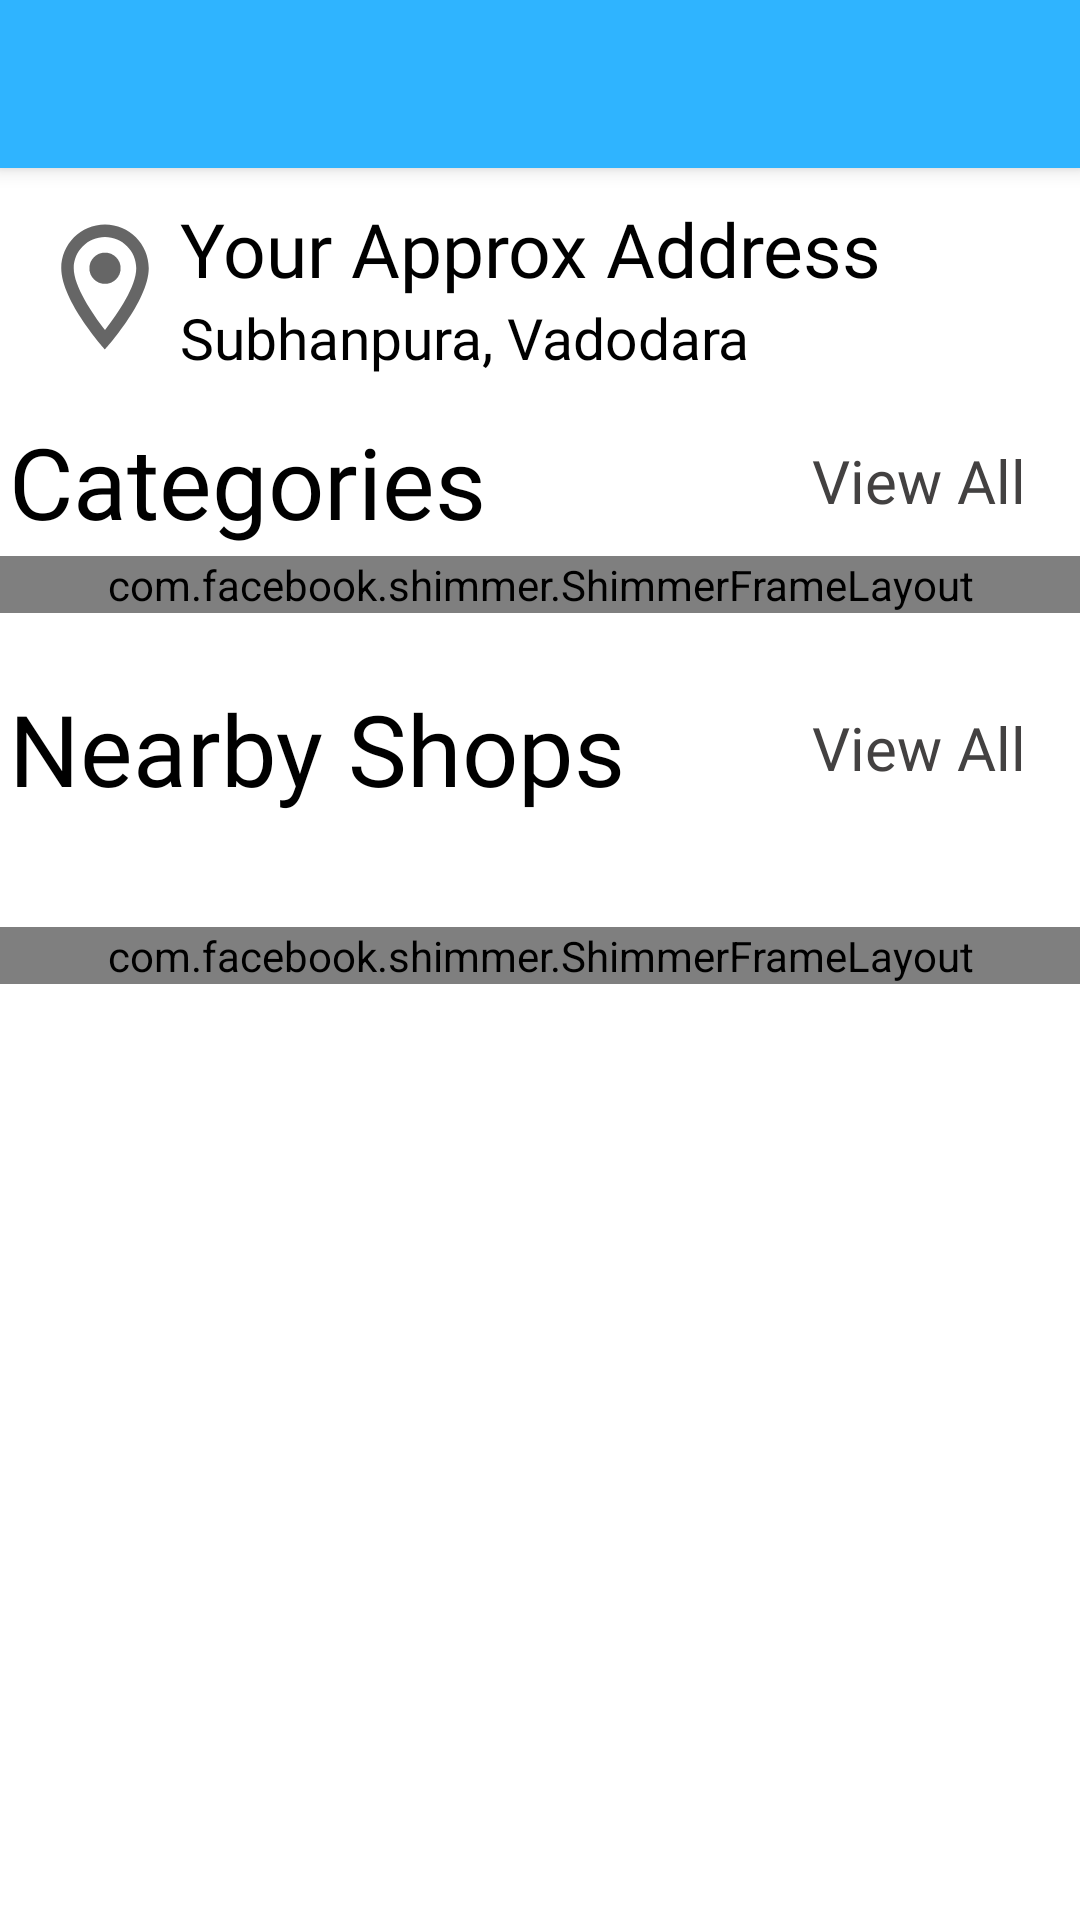

Named icons in this screenshot (1080 × 1920) and their bounding boxes, (x1, y1, x2, y2):
location: (61, 224, 149, 349)
